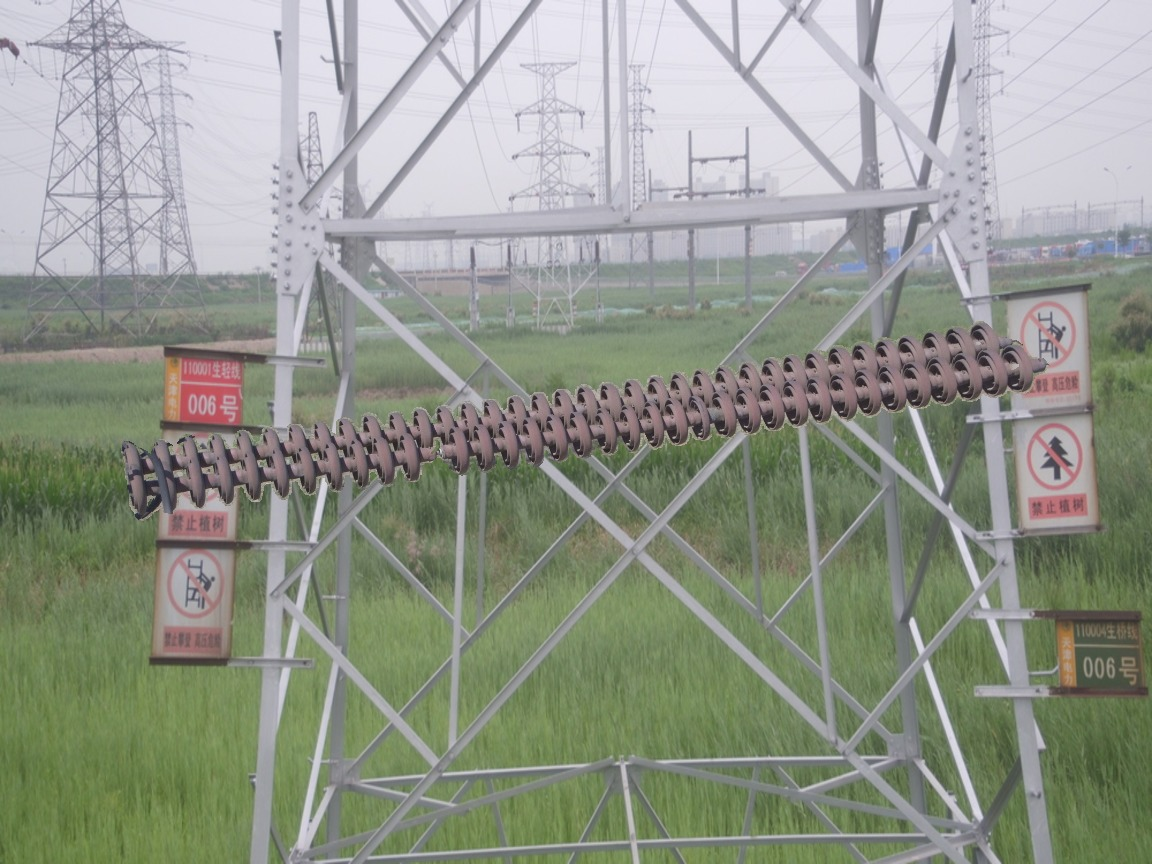defect: (395, 425, 474, 482)
